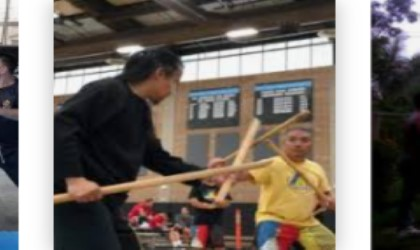baston_e: (105, 151, 259, 201), (271, 138, 328, 206), (228, 108, 300, 158), (217, 126, 261, 192)
baston_v: (45, 187, 61, 211), (210, 192, 226, 209), (247, 110, 261, 127), (298, 103, 311, 120), (262, 155, 275, 168)
